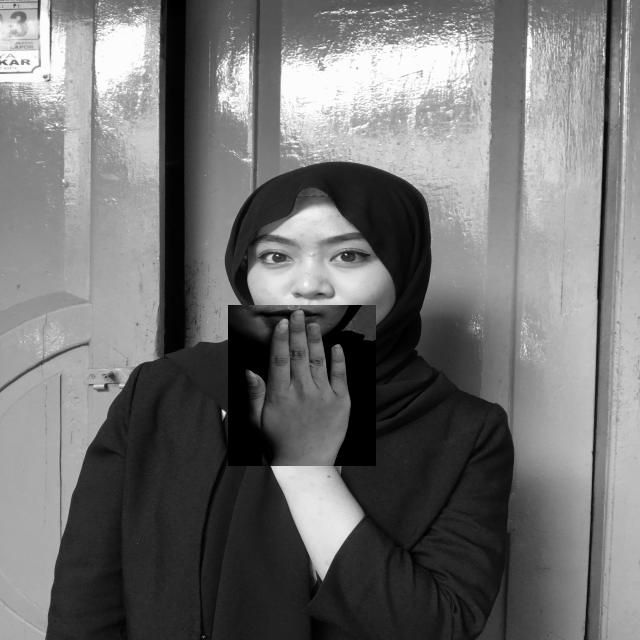ganteng: (228, 305, 376, 466)
